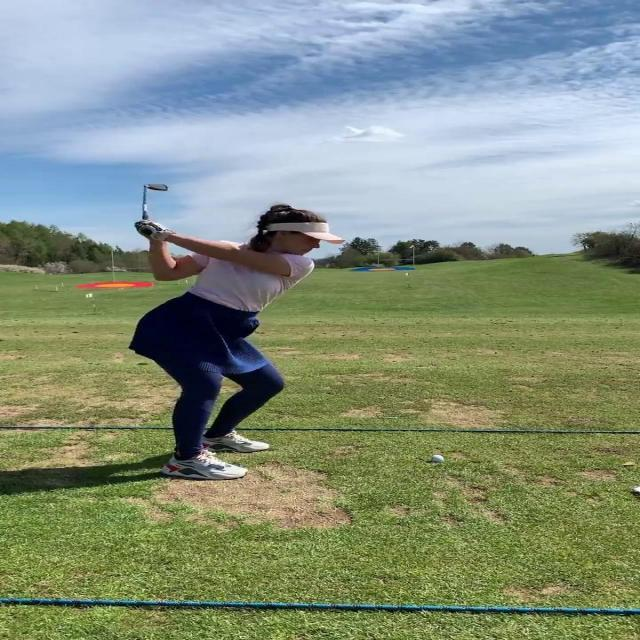ClubHandle: (137, 182, 172, 237)
ClubHead: (147, 183, 169, 191)
GolfBall: (432, 455, 445, 462)
